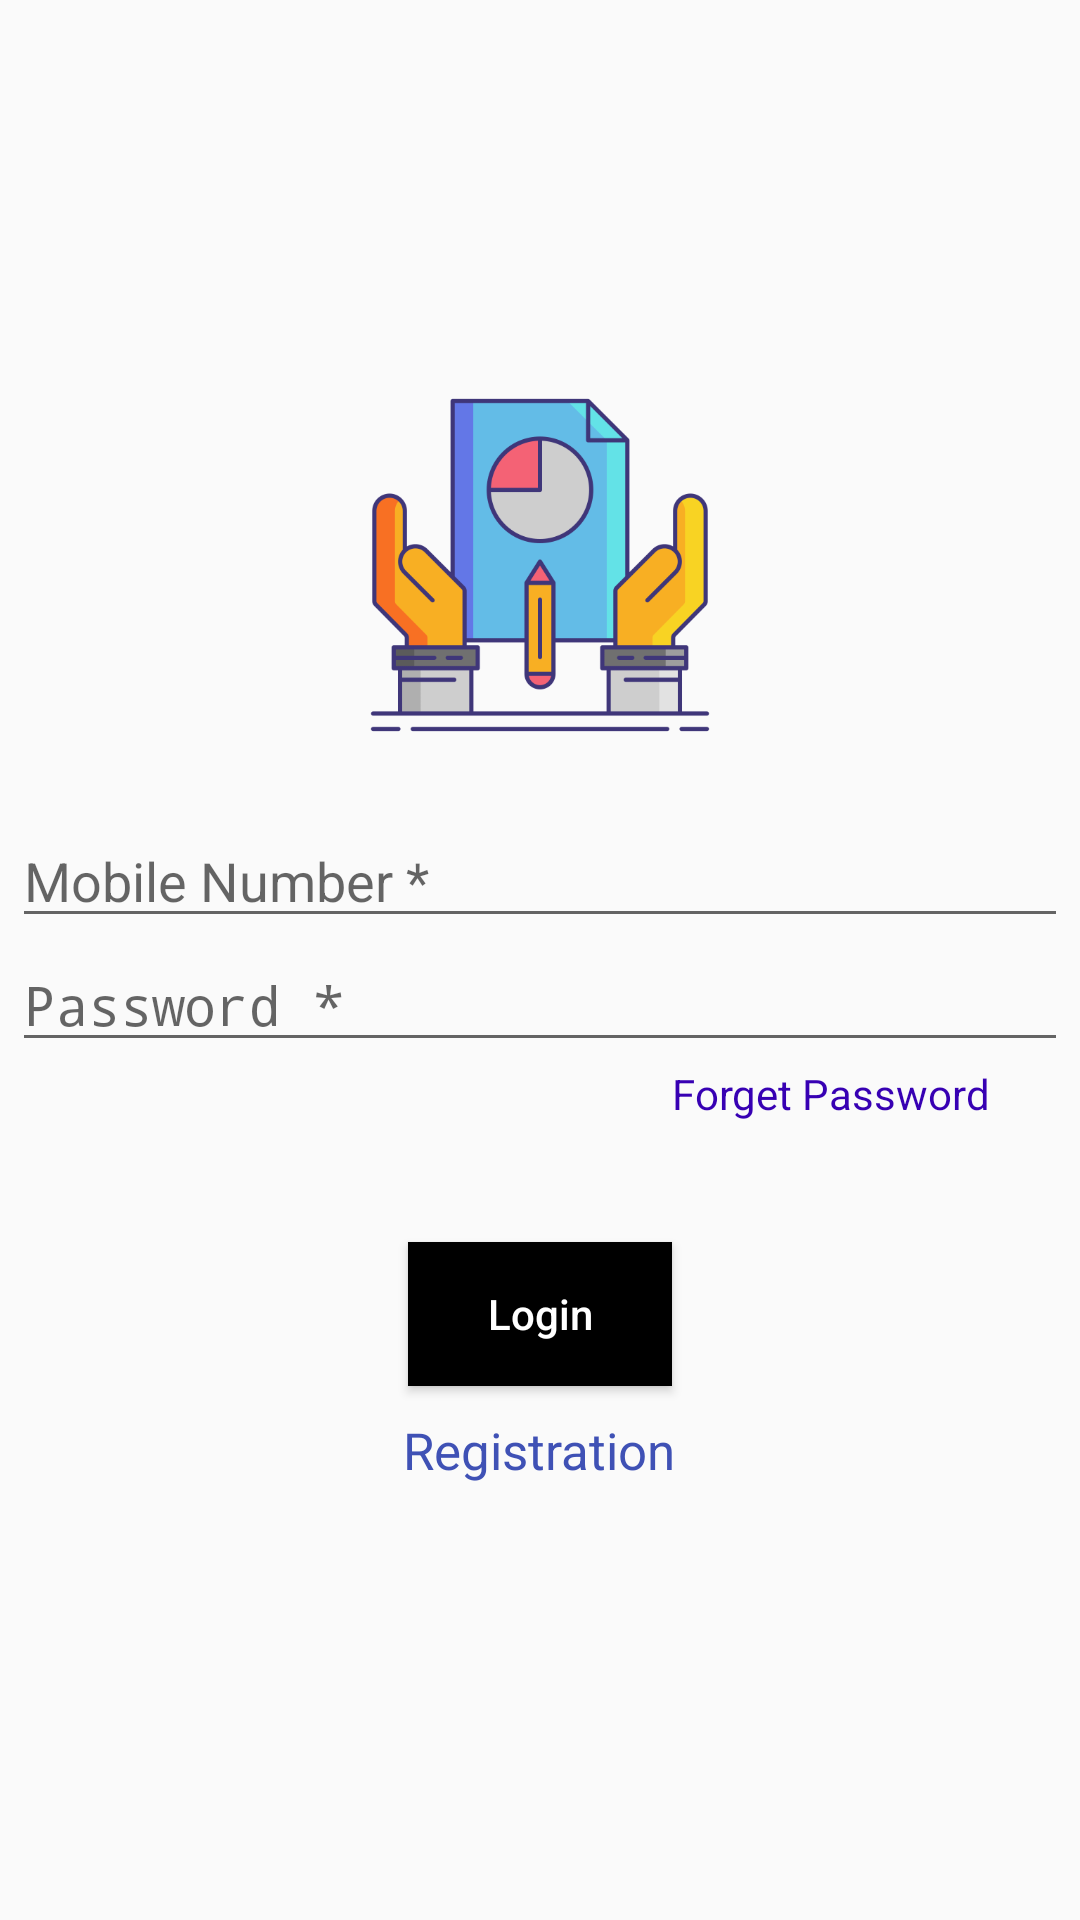

Named icons in this screenshot (1080w x 1920h) and their centers, (x,y):
business: (540,565)
